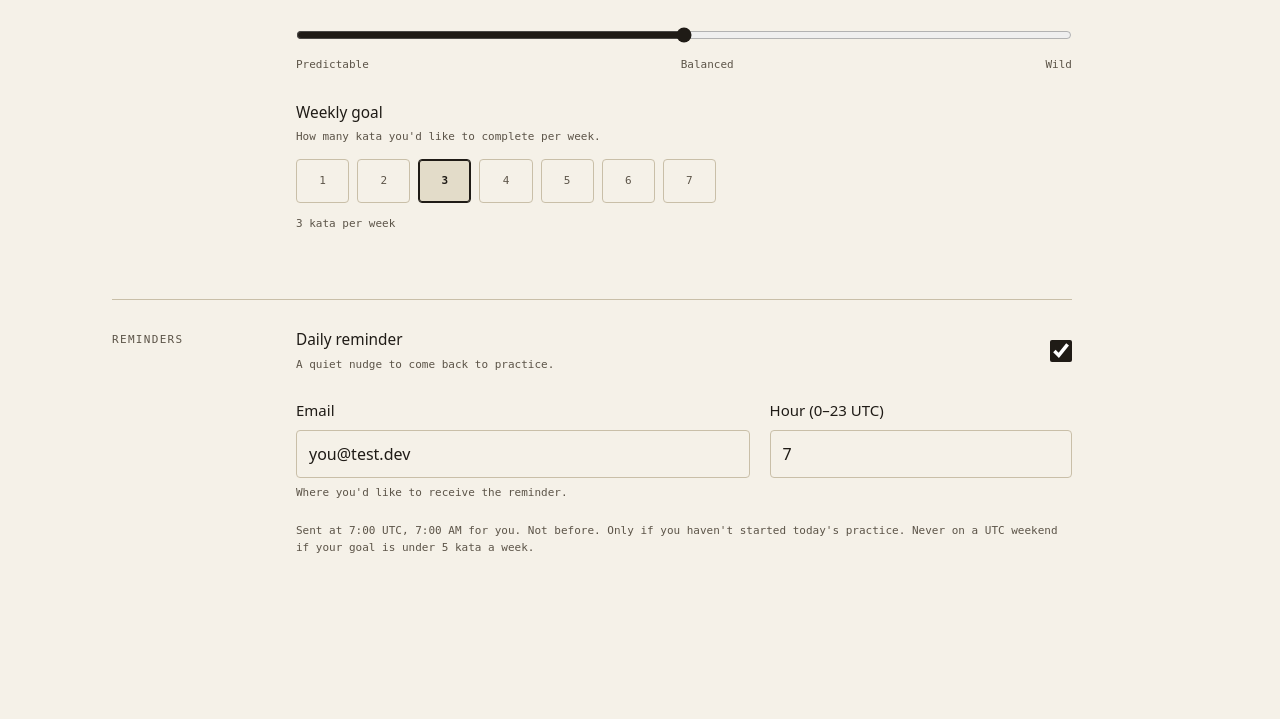
Test case: SettingsPage › reminder fields › says invalid details are not saved, and undo brings the saved ones back
The image size is (1280, 719).
(page scrolled)
Replace the text in the field labelled "Email" with "new@": coordinates (523, 454) [296,430,750,478]
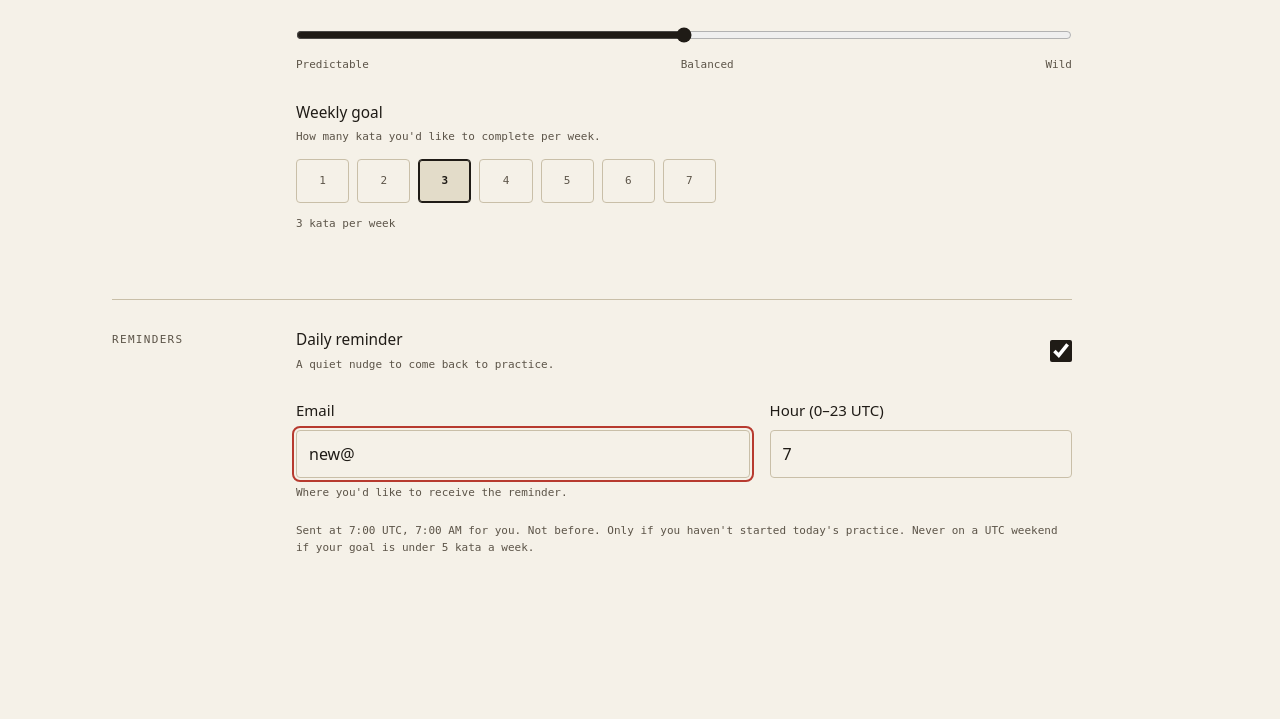
Press Tab
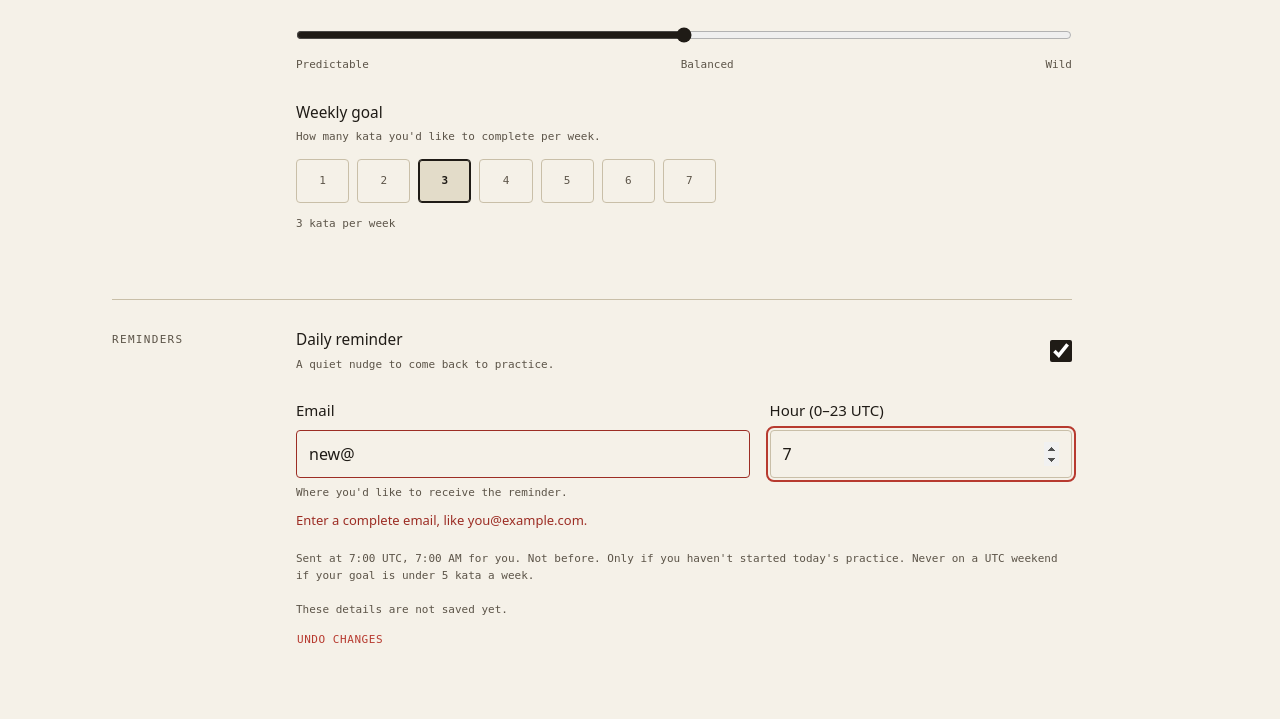
Check: the text "These details are not saved yet." is shown, box [296,603,508,616]
Click the button "Undo changes": coordinates (340, 640) [296,618,384,662]
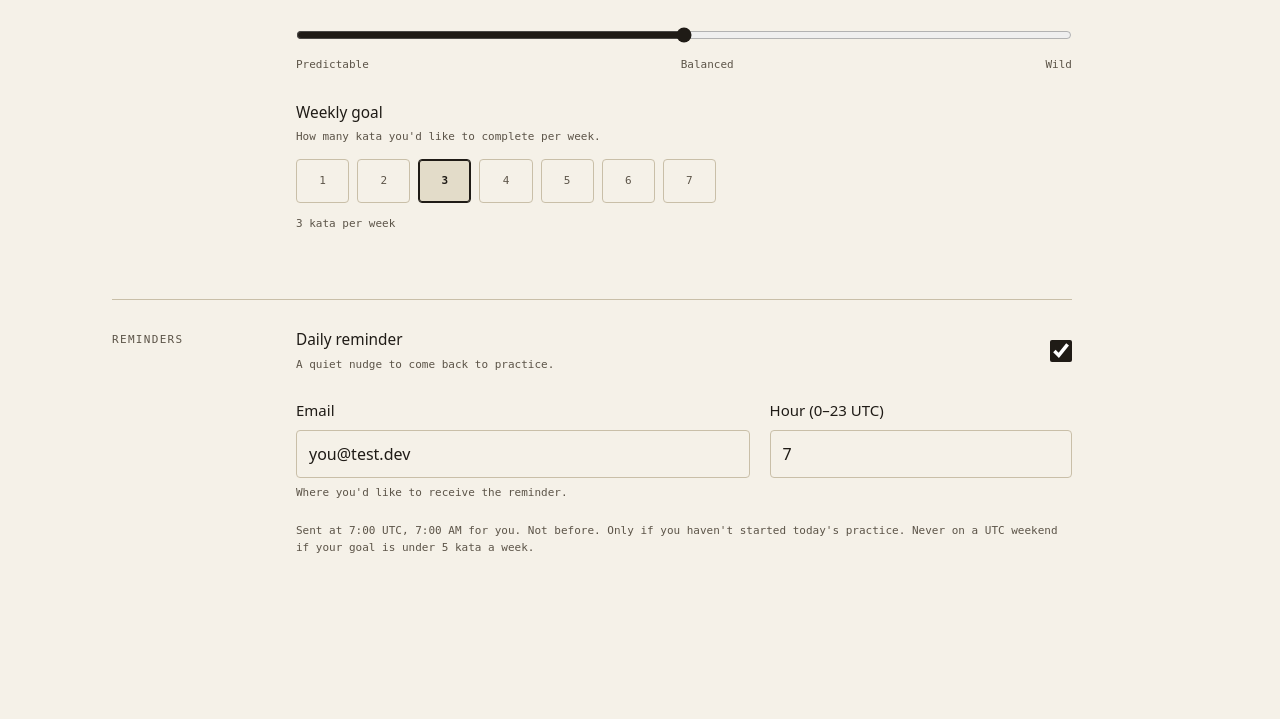
Check: the field labelled "Email" holds "you@test.dev", box [296,430,750,478]
Check: the text "These details are not saved yet." is gone
